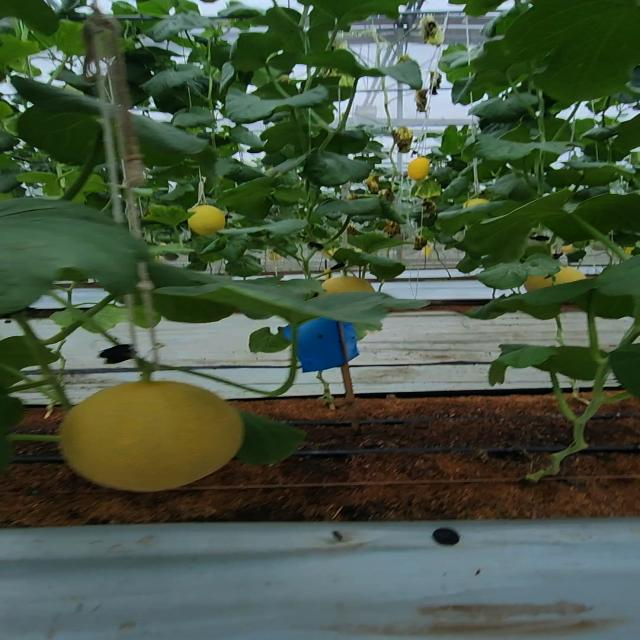Front-melon: (59, 381, 245, 493)
Rear-melon: (187, 205, 225, 232), (407, 156, 429, 179)
